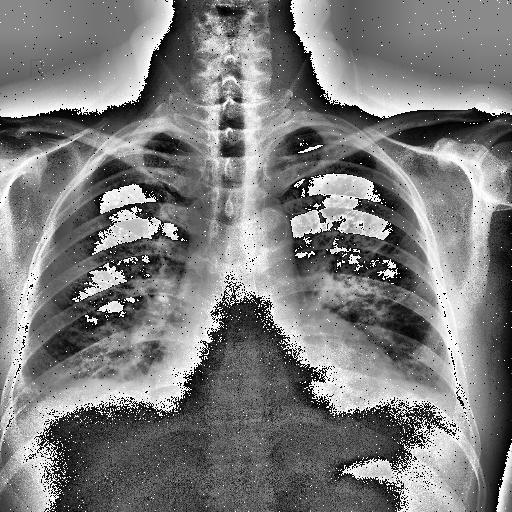0- Aortic enlargement: (238, 208, 294, 268), (244, 210, 294, 272)
10- Pleural effusion: (5, 356, 43, 436), (4, 370, 40, 418), (444, 388, 458, 416)
11- Pleural thickening: (5, 356, 43, 436), (4, 370, 40, 418), (444, 388, 458, 416)
3- Cardiomegaly: (150, 324, 397, 408), (145, 328, 398, 400), (148, 359, 398, 400)
6- Infiltration: (346, 260, 398, 344)
